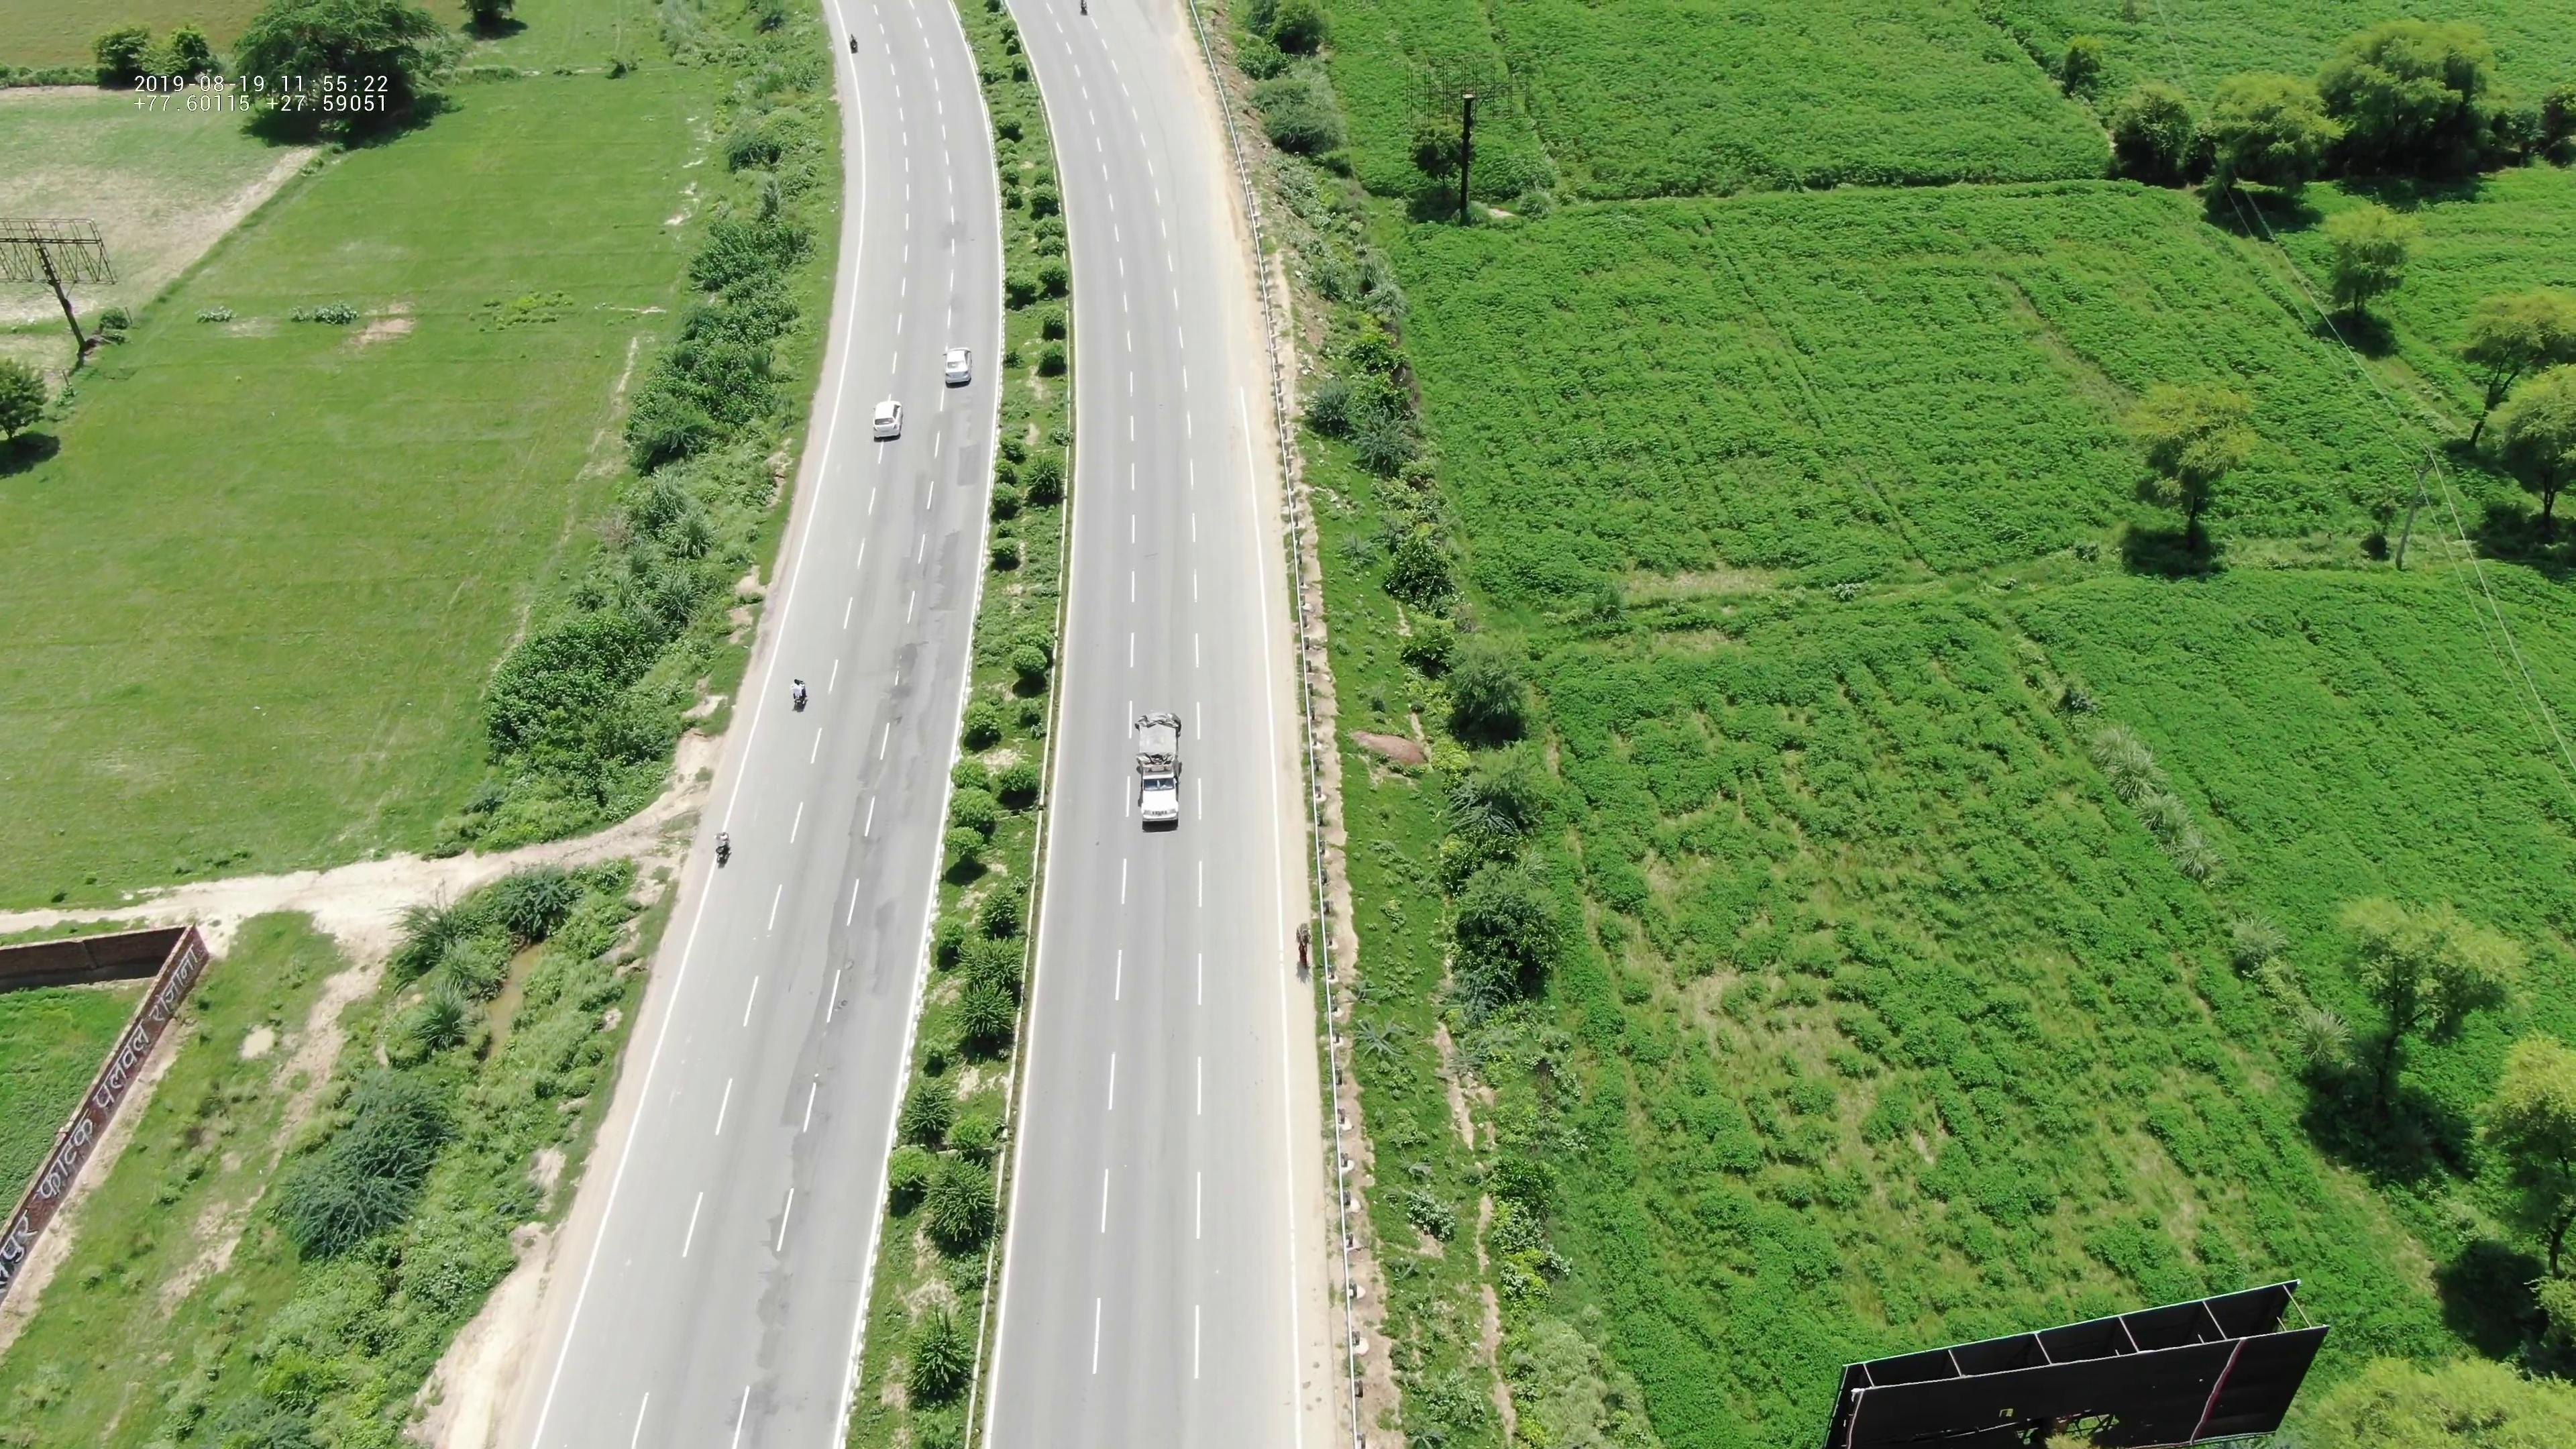Potholes: (816, 948, 874, 1028)
